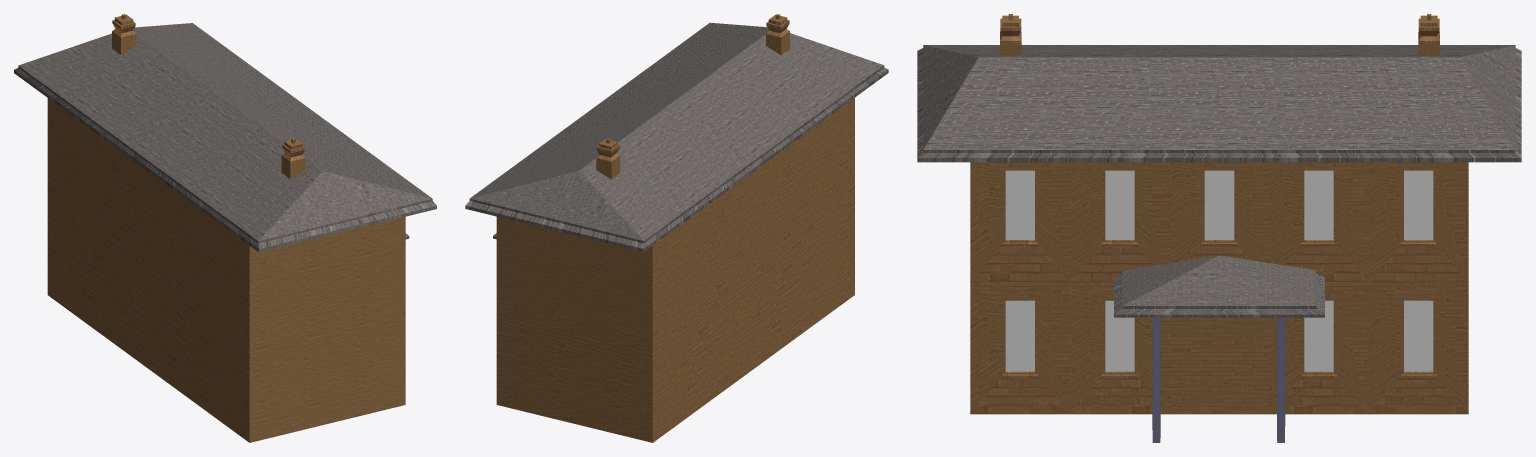
The model's file is house.fbx.
The picture shows the model from 3 angles, left to right: view 1: azimuth 30°, elevation 25°; view 2: azimuth 150°, elevation 25°; view 3: azimuth 270°, elevation 25°; orthographic projection. The views are drawn at different scales.
Parts seen in each view (by area): view 1: Cube, Cylinder, Cube.005, Cube.006; view 2: Cube, Cylinder, Cube.006, Cube.005; view 3: Cube, Cylinder, Cone, Cube.004, Cube.003, Cube.006, Cube.005.
Boxes of the visible parts, left/top/right/bottom form: Cube: left=47, top=98, right=405, bottom=442; Cylinder: left=14, top=23, right=436, bottom=252; Cube.005: left=281, top=138, right=305, bottom=178; Cube.006: left=112, top=14, right=135, bottom=54; Cube: left=496, top=98, right=854, bottom=442; Cylinder: left=465, top=22, right=888, bottom=252; Cube.006: left=596, top=138, right=620, bottom=178; Cube.005: left=766, top=14, right=789, bottom=54; Cube: left=970, top=162, right=1468, bottom=414; Cylinder: left=917, top=45, right=1521, bottom=162; Cone: left=1114, top=255, right=1324, bottom=317; Cube.004: left=1152, top=317, right=1160, bottom=442; Cube.003: left=1277, top=317, right=1285, bottom=442; Cube.006: left=1418, top=14, right=1439, bottom=55; Cube.005: left=1000, top=14, right=1021, bottom=55.
Bounding box in the file's own units: 696 × 800 × 1282.
Materials: 5 (3 with a texture image).
